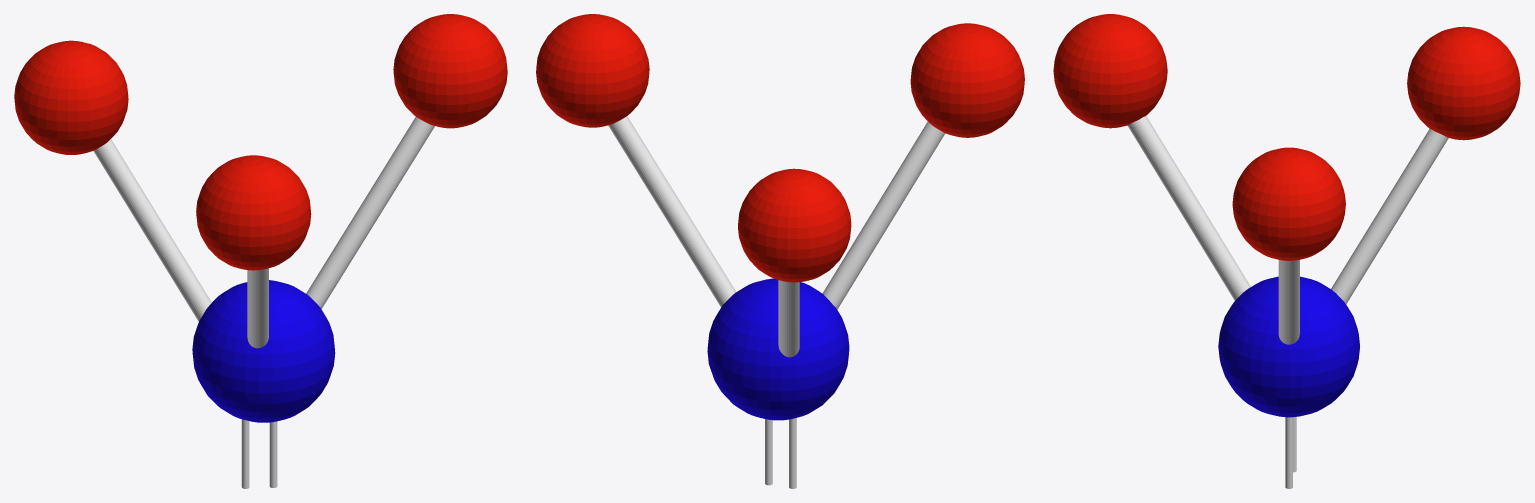
Rendered from üçgen piramit.gltf.
3 views of the same model, side by side, from view 1: azimuth 30°, elevation 25°; view 2: azimuth 150°, elevation 25°; view 3: azimuth 270°, elevation 25° (orthographic).
Visible parts, largest first — view 1: Sphere, Sphere.001, Sphere.002, Sphere.003, Cylinder, Cylinder.001, Cylinder.002, Cylinder.004, Cylinder.003; view 2: Sphere, Sphere.001, Sphere.002, Sphere.003, Cylinder, Cylinder.002, Cylinder.001, Cylinder.004, Cylinder.003; view 3: Sphere, Sphere.001, Sphere.002, Sphere.003, Cylinder.002, Cylinder.001, Cylinder, Cylinder.003.
Part boxes in pixels (x1=…): Sphere: x1=192, y1=280, x2=335, y2=422; Sphere.001: x1=196, y1=155, x2=311, y2=270; Sphere.002: x1=393, y1=14, x2=507, y2=128; Sphere.003: x1=14, y1=40, x2=128, y2=154; Cylinder: x1=306, y1=117, x2=434, y2=308; Cylinder.001: x1=93, y1=139, x2=211, y2=321; Cylinder.002: x1=247, y1=268, x2=268, y2=348; Cylinder.004: x1=241, y1=419, x2=249, y2=488; Cylinder.003: x1=269, y1=421, x2=277, y2=487; Sphere: x1=707, y1=278, x2=849, y2=420; Sphere.001: x1=910, y1=23, x2=1024, y2=137; Sphere.002: x1=536, y1=14, x2=649, y2=127; Sphere.003: x1=738, y1=168, x2=851, y2=282; Cylinder: x1=608, y1=116, x2=736, y2=307; Cylinder.002: x1=822, y1=121, x2=945, y2=309; Cylinder.001: x1=778, y1=280, x2=799, y2=357; Cylinder.004: x1=789, y1=418, x2=796, y2=488; Cylinder.003: x1=765, y1=419, x2=772, y2=485; Sphere: x1=1218, y1=276, x2=1359, y2=417; Sphere.001: x1=1053, y1=14, x2=1167, y2=128; Sphere.002: x1=1232, y1=147, x2=1345, y2=260; Sphere.003: x1=1407, y1=26, x2=1520, y2=140; Cylinder.002: x1=1127, y1=116, x2=1250, y2=300; Cylinder.001: x1=1331, y1=129, x2=1448, y2=304; Cylinder: x1=1278, y1=259, x2=1299, y2=344; Cylinder.003: x1=1285, y1=417, x2=1292, y2=488.
Size of the model in its own units: 6.3 by 6.54 by 6.58.
